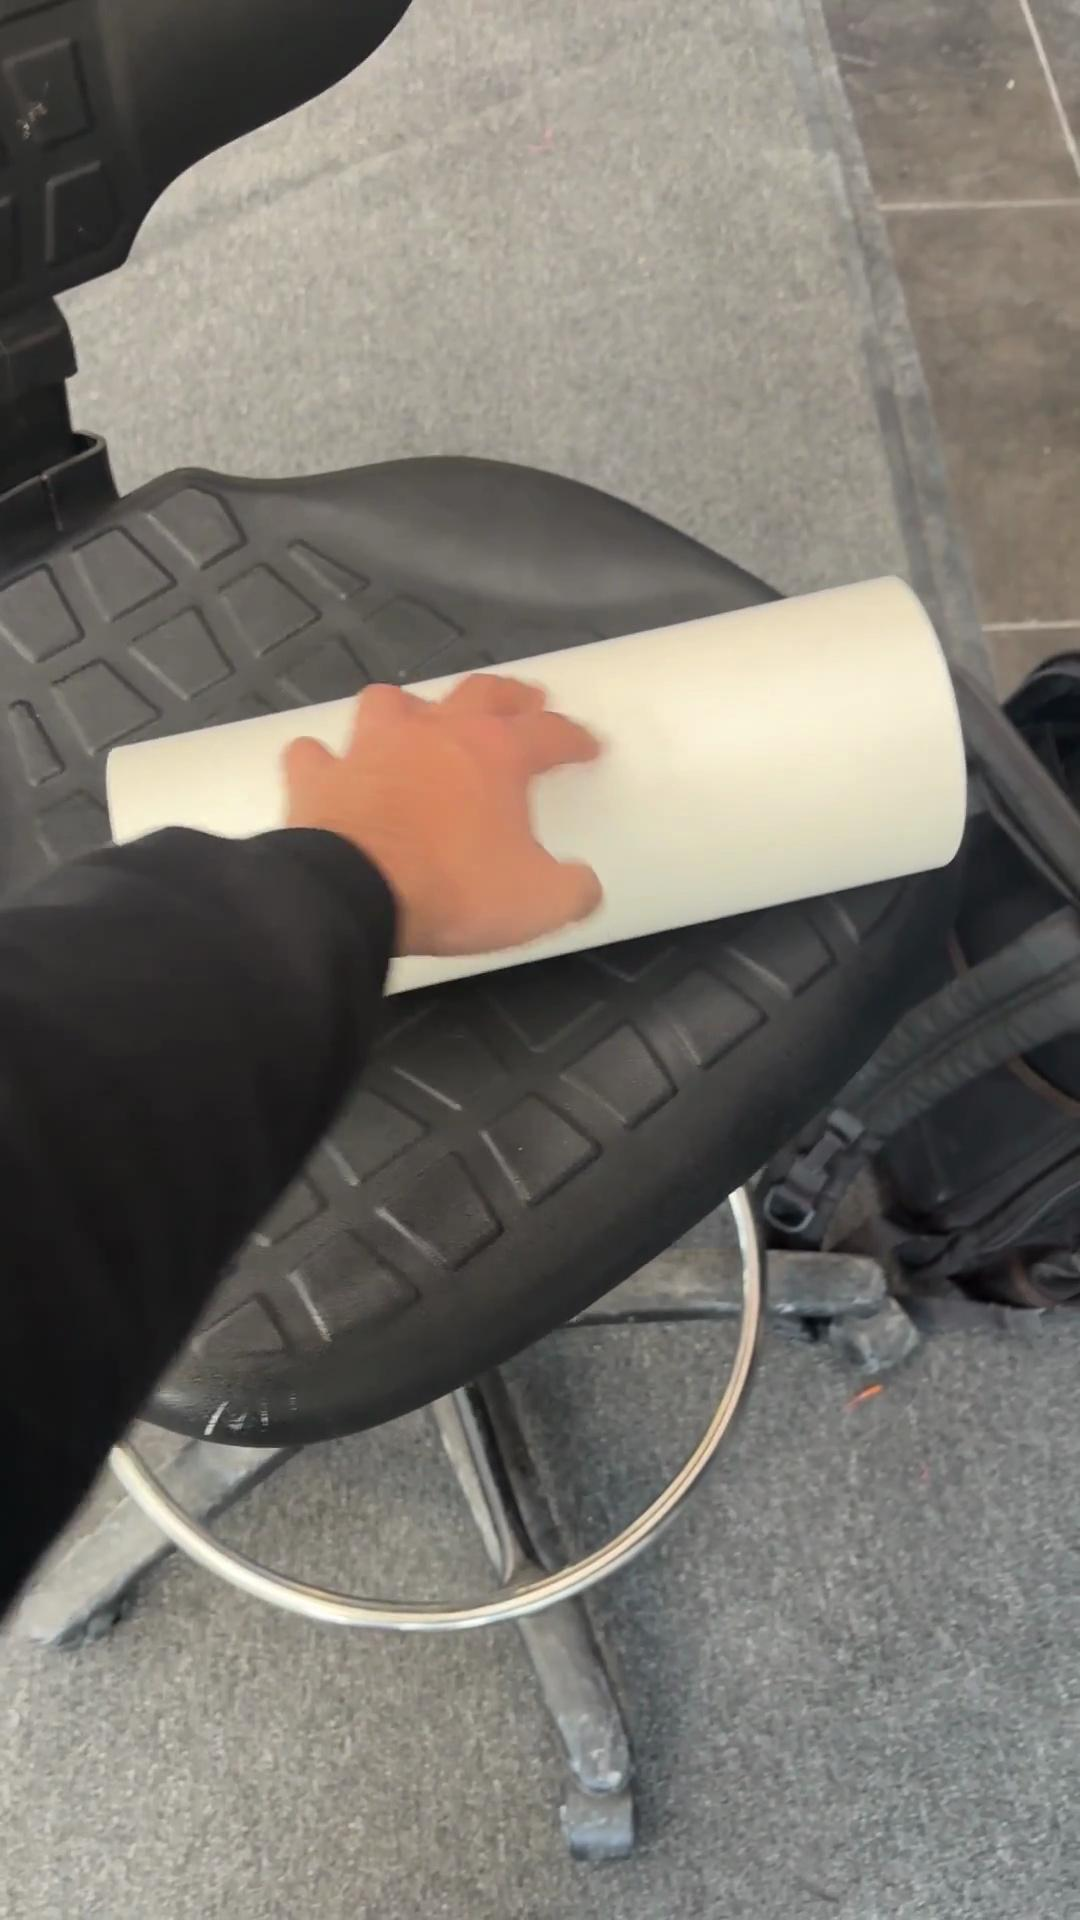CORAL: (101, 569, 970, 998)
